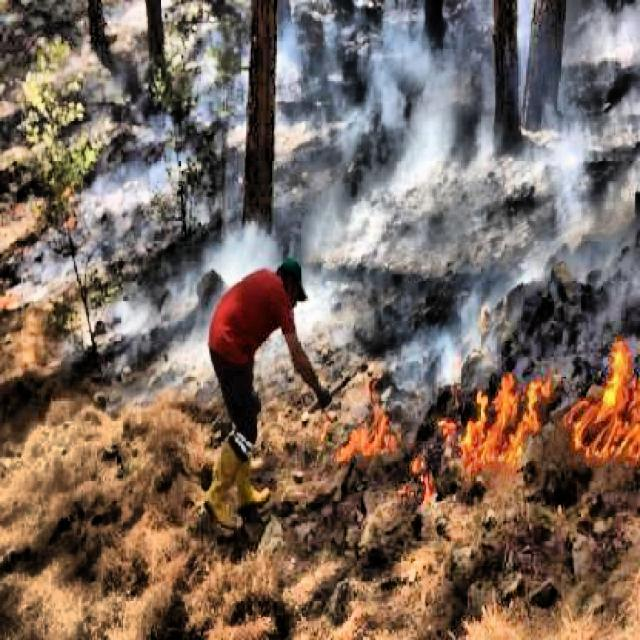Fire: (567, 335, 640, 458), (458, 374, 550, 470), (334, 413, 398, 461)
